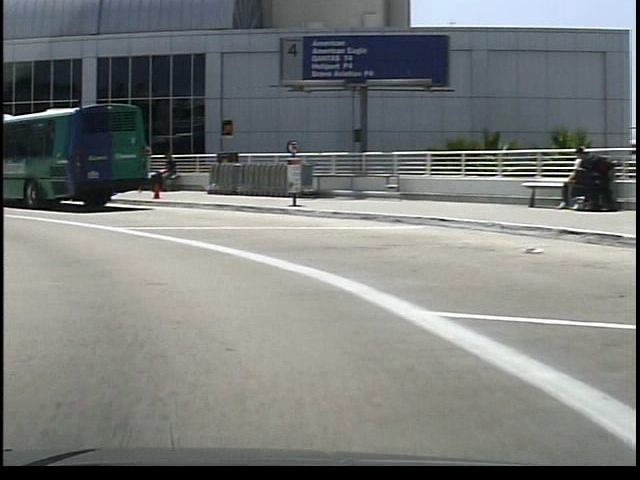person: (149, 148, 177, 195)
